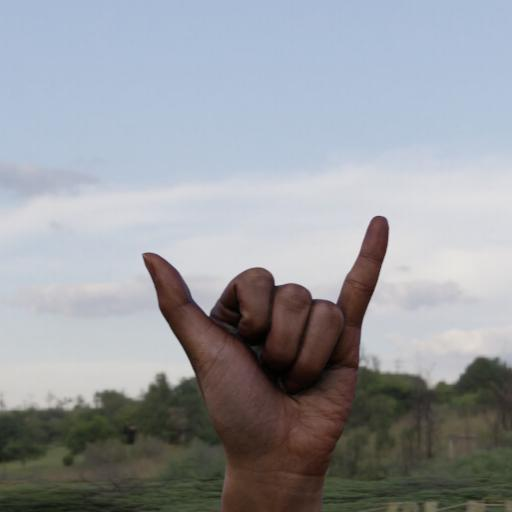Y: (130, 208, 410, 469)
